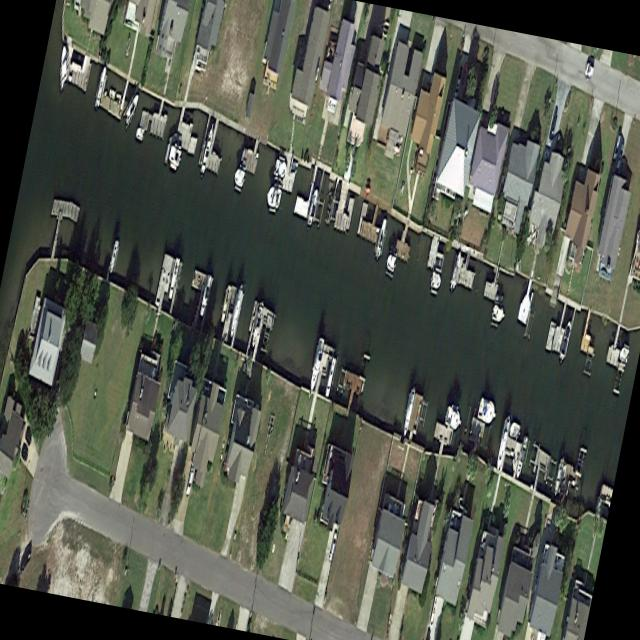ship: (308, 335, 326, 394), (495, 418, 511, 473), (200, 122, 215, 176), (514, 433, 529, 484), (229, 287, 243, 339), (477, 396, 498, 430), (402, 389, 416, 438), (94, 65, 108, 113), (199, 272, 213, 319), (444, 402, 463, 434), (450, 248, 463, 294), (324, 356, 337, 401), (375, 217, 388, 262), (559, 320, 572, 364), (167, 258, 180, 300), (251, 306, 263, 351), (125, 88, 138, 128), (553, 459, 565, 499), (265, 185, 283, 211), (307, 189, 319, 228), (221, 284, 232, 323), (491, 301, 506, 328), (109, 241, 119, 275), (429, 597, 439, 631), (273, 157, 287, 181), (168, 146, 182, 169), (233, 166, 247, 188), (61, 41, 67, 89), (508, 420, 521, 442), (385, 253, 397, 273), (430, 271, 442, 291), (618, 345, 629, 366), (135, 125, 145, 143), (108, 87, 116, 102), (115, 91, 122, 107), (126, 36, 131, 57)
small-vehicle: (186, 462, 196, 498), (612, 130, 622, 161), (20, 548, 31, 576), (548, 114, 558, 143), (328, 532, 337, 562), (615, 142, 624, 172), (460, 63, 468, 89), (584, 63, 595, 81), (25, 426, 32, 446), (21, 445, 28, 463)
